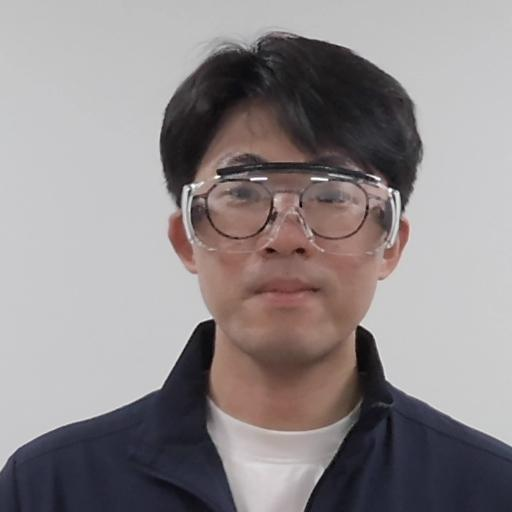glasses: (158, 32, 422, 352)
